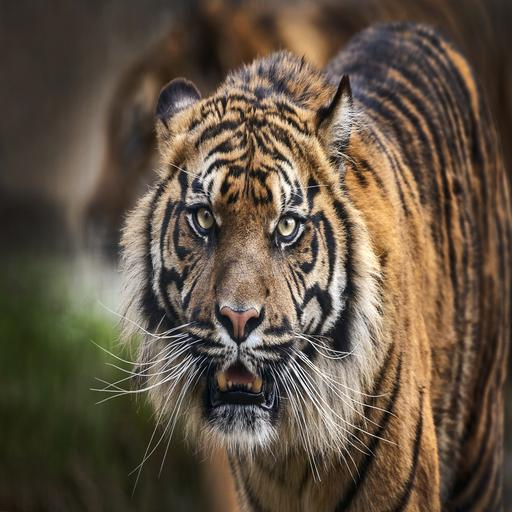Tiger: (104, 17, 512, 512)
